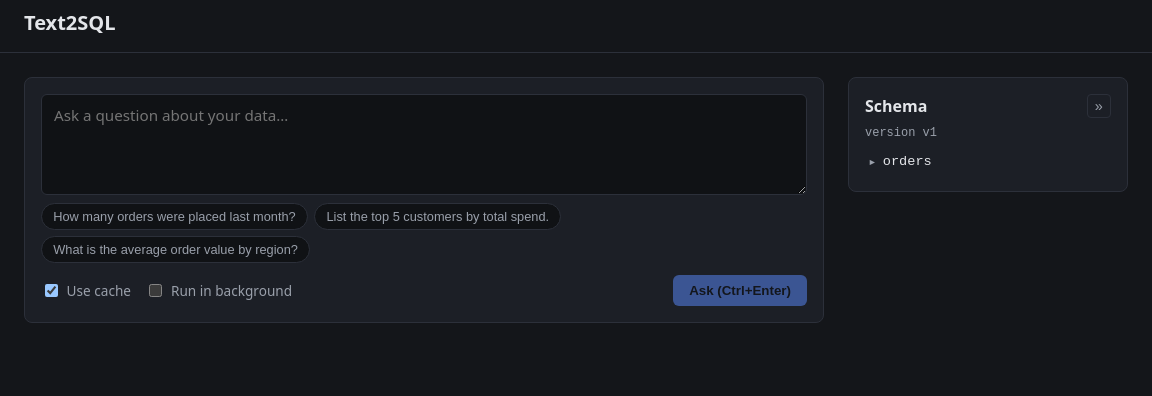
App › shows the error banner when the async enqueue fails with a 503 (queue unavailable)
This screenshot has width=1152, height=396.
Step 1. Type "anything" into the text box with placeholder "Ask a question about your data…" → (424,145), box [41,94,807,195]
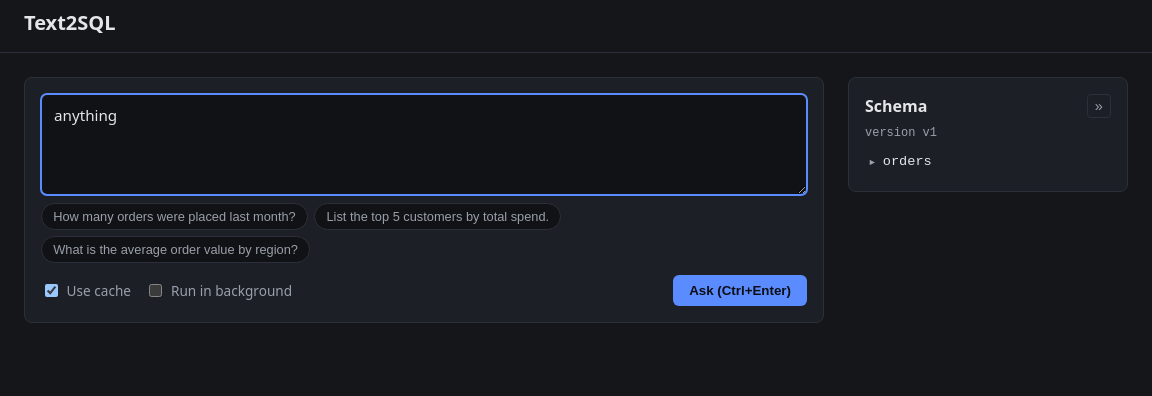
Step 2. Click the checkbox labelled "Run in background" → (156,290), box [149,284,162,297]
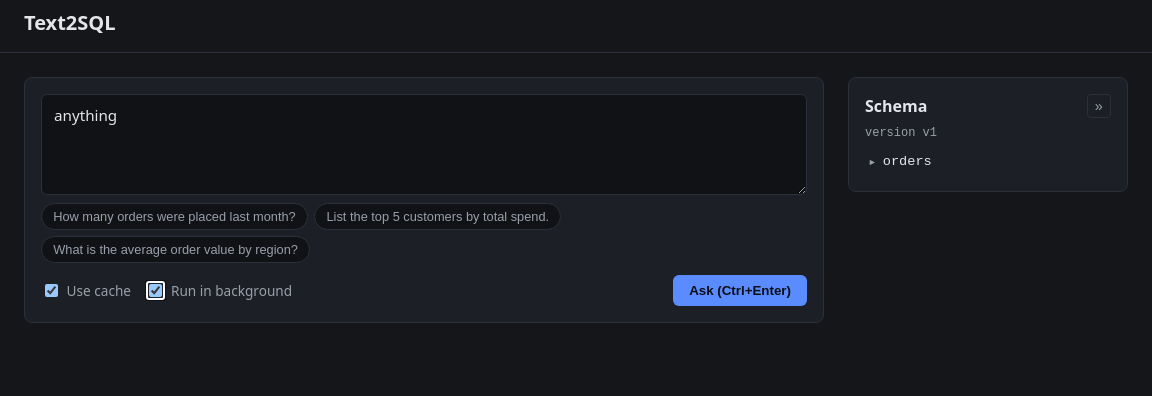
Step 3. Click the button "Ask (Ctrl+Enter)" → (740,290), box [673,275,807,306]
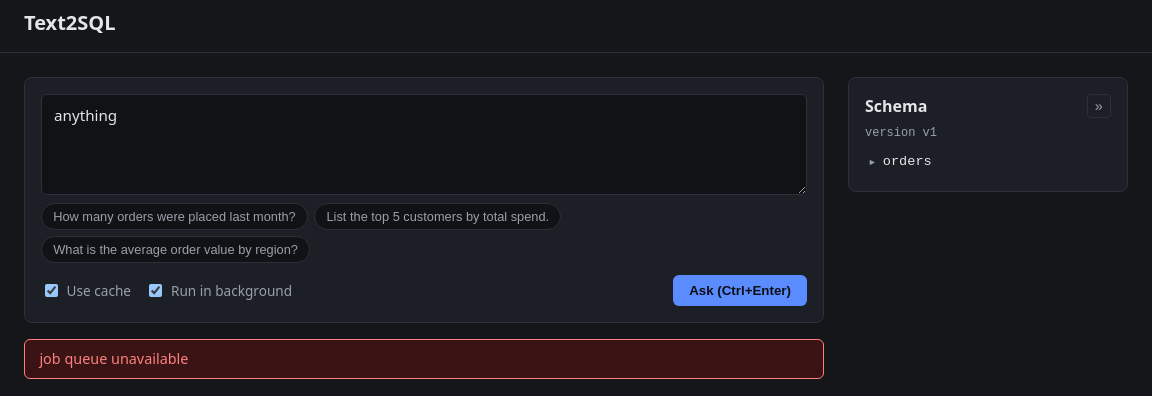
Expected: the message reads "job queue unavailable", [39,349,188,368]
